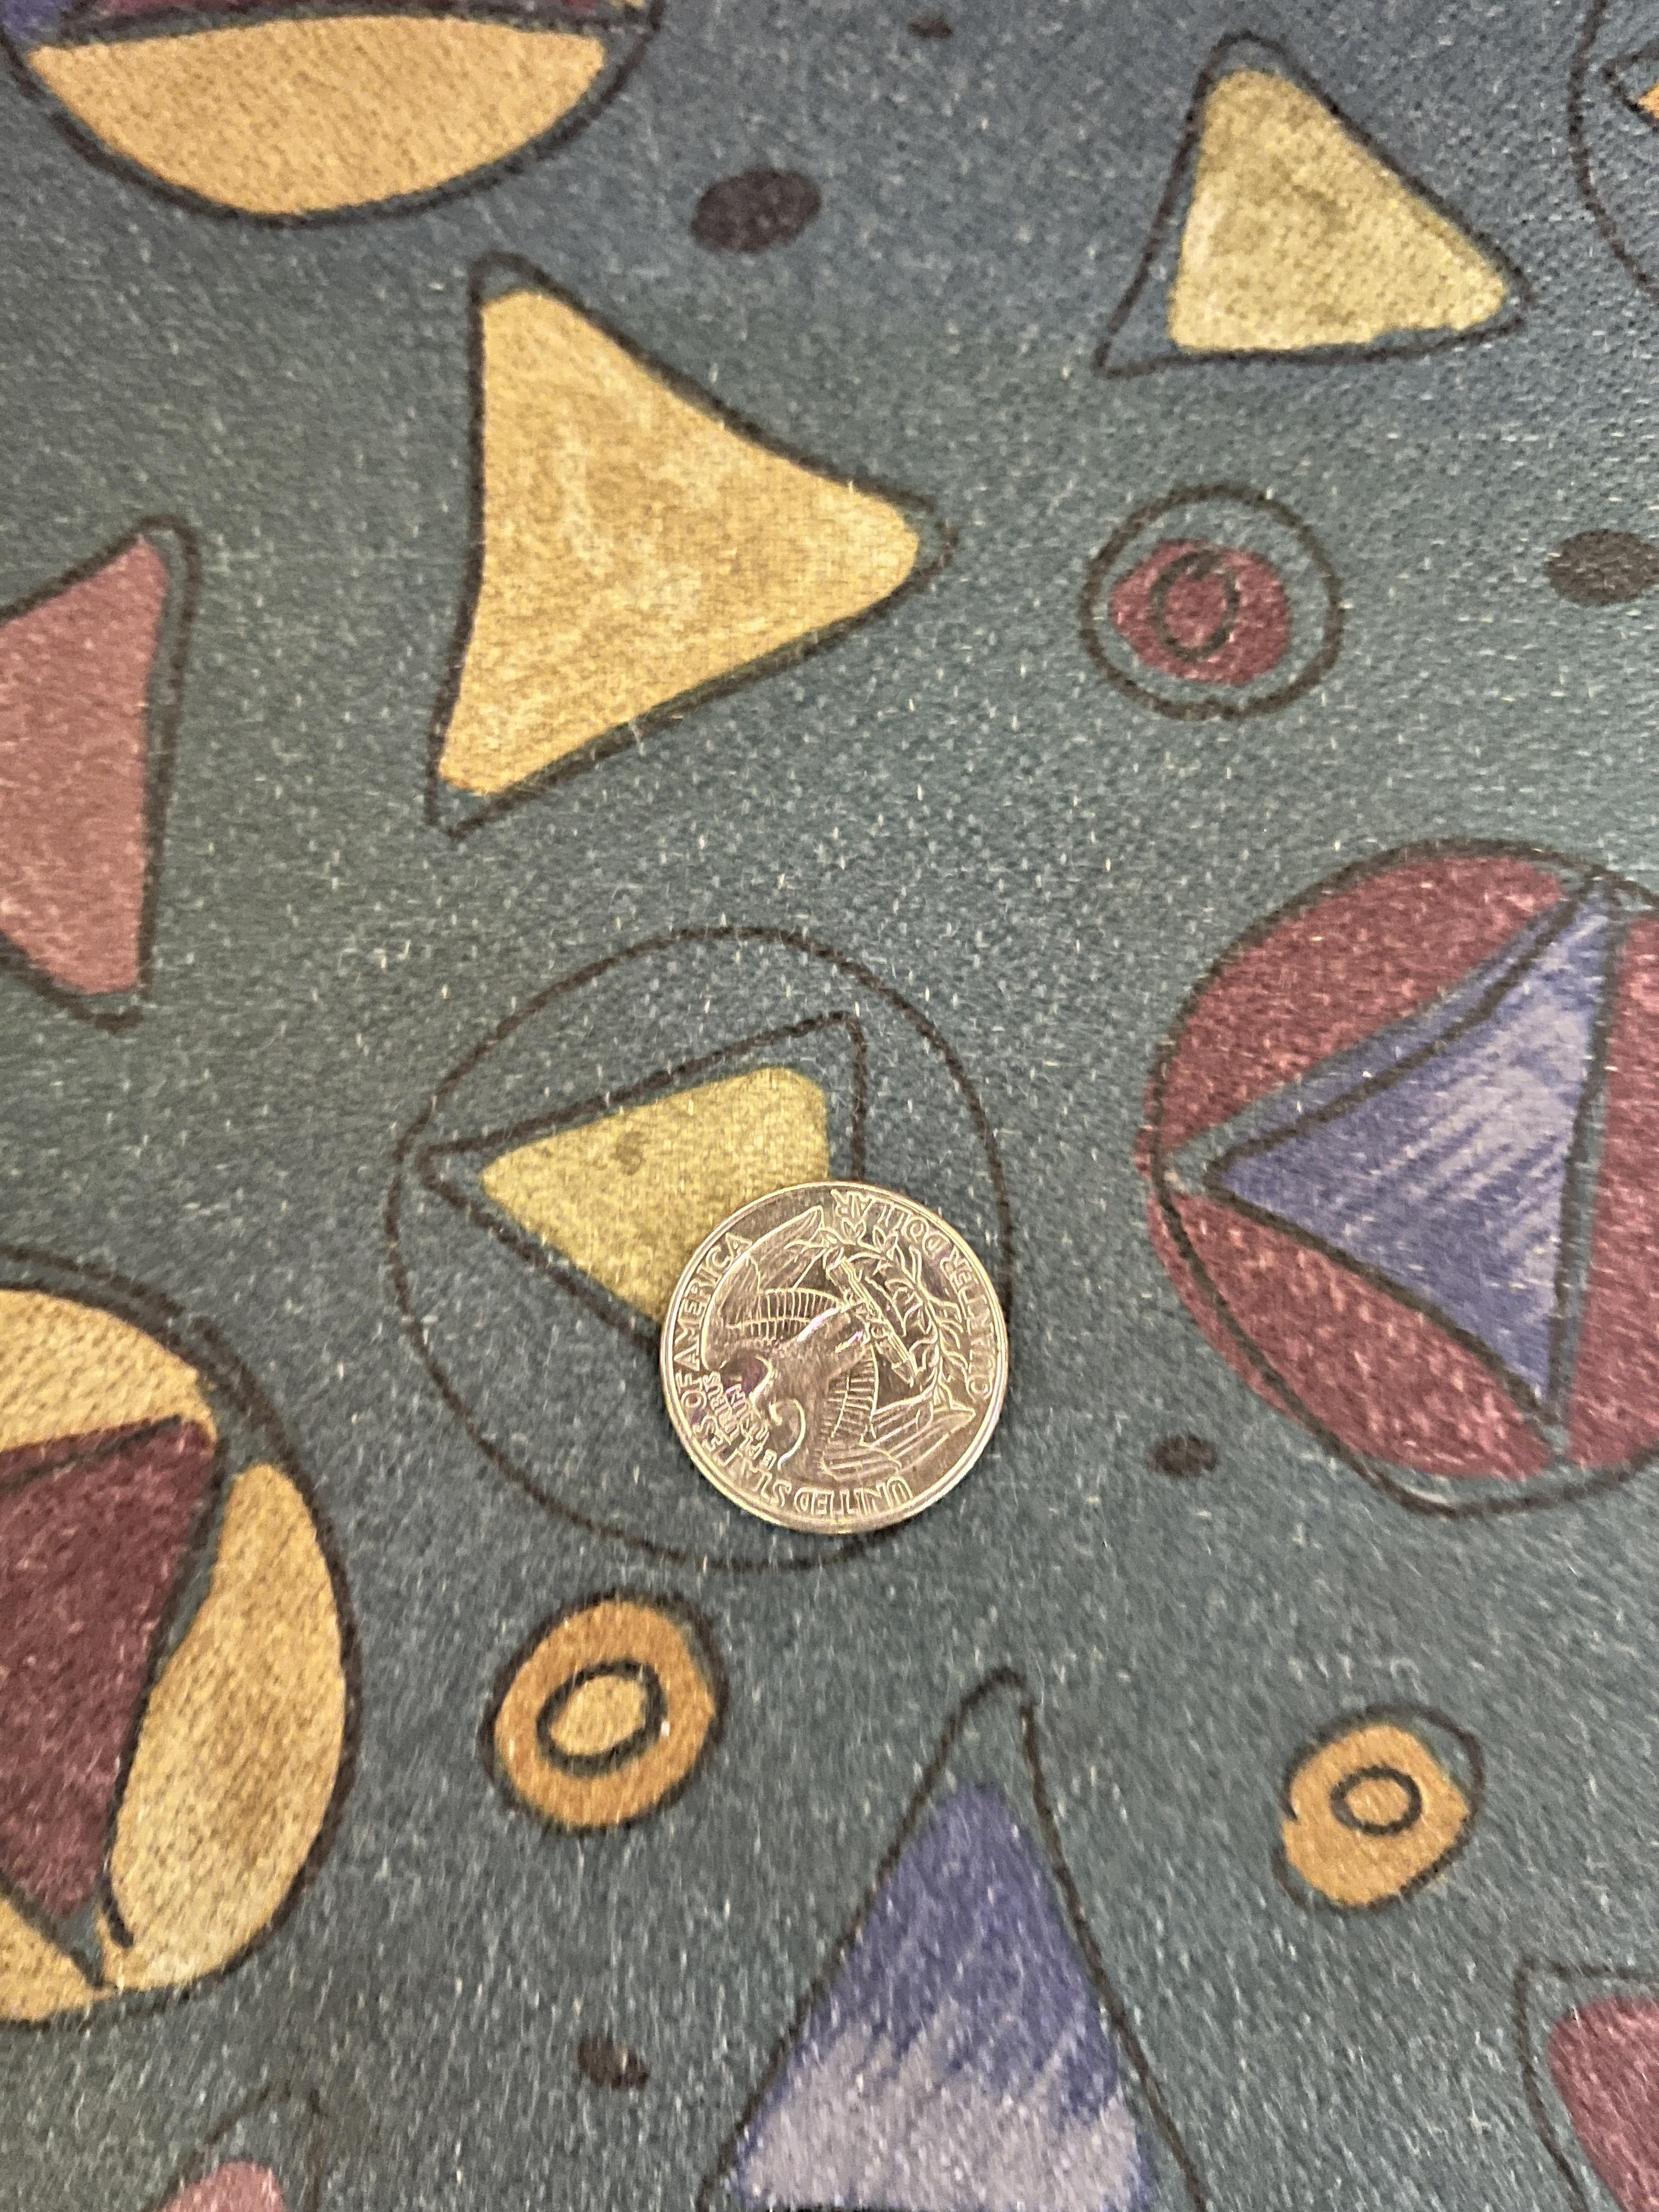Quarter: (641, 1174, 1012, 1552)
